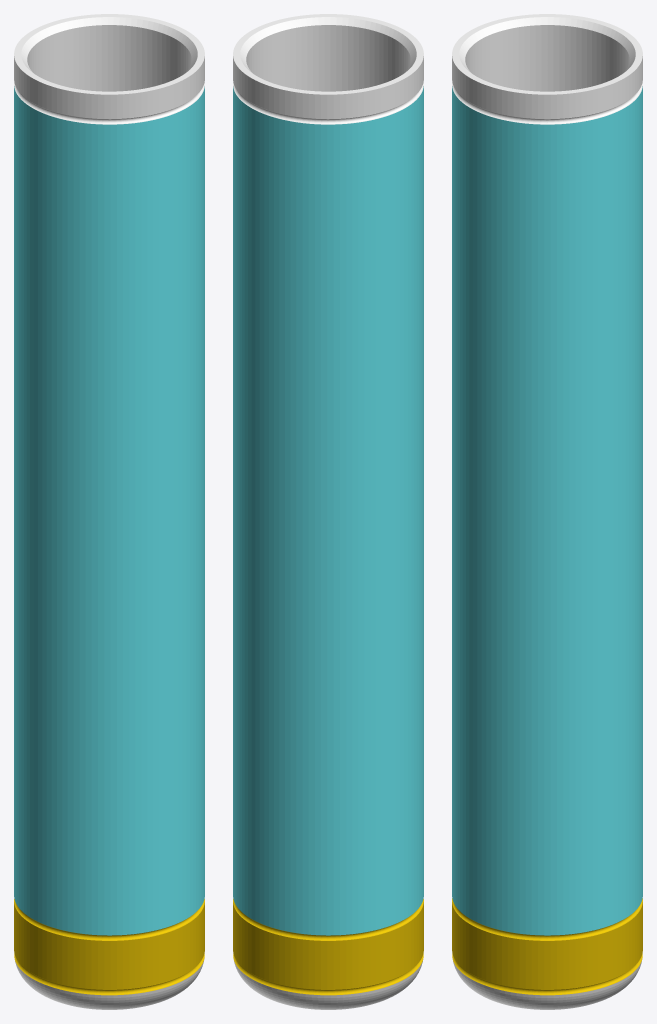
The picture shows the model from 3 angles, left to right: view 1: azimuth 30°, elevation 25°; view 2: azimuth 150°, elevation 25°; view 3: azimuth 270°, elevation 25°; orthographic projection.
Parts seen in each view (by area): view 1: imagetostl_mesh0; view 2: imagetostl_mesh0; view 3: imagetostl_mesh0.
Boxes of the visible parts, <box> form: imagetostl_mesh0: <box>14,14,204,1009</box>; imagetostl_mesh0: <box>233,14,423,1009</box>; imagetostl_mesh0: <box>452,14,642,1009</box>.
Bounding box in the file's own units: 3179 × 17000 × 3180.
